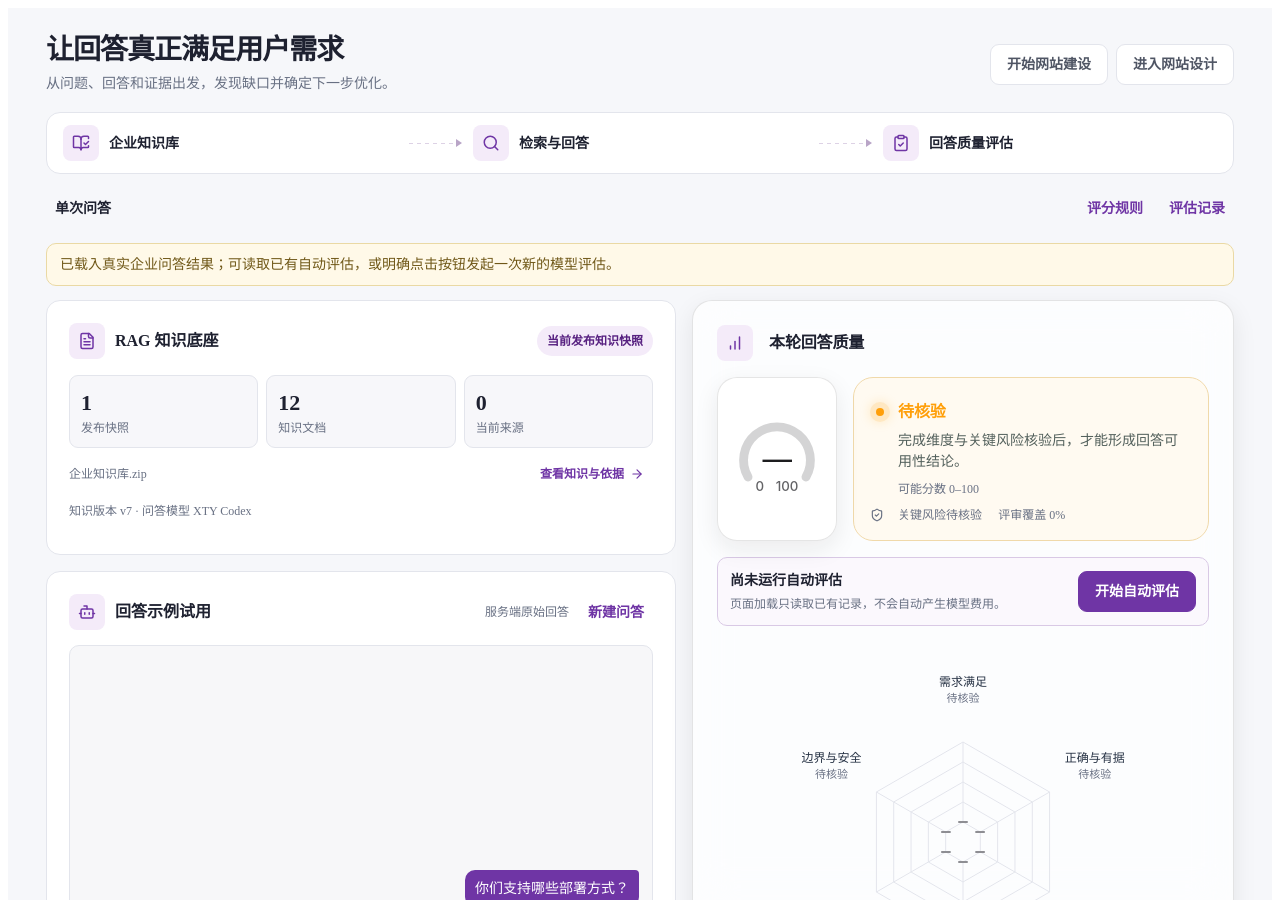
Test: enterprise RAG evidence-based review UI › shows the durable server failure instead of a generic submitted notice
Click the button with test id "rag-auto-evaluate": coordinates (1137, 592) [1078,572,1196,612]
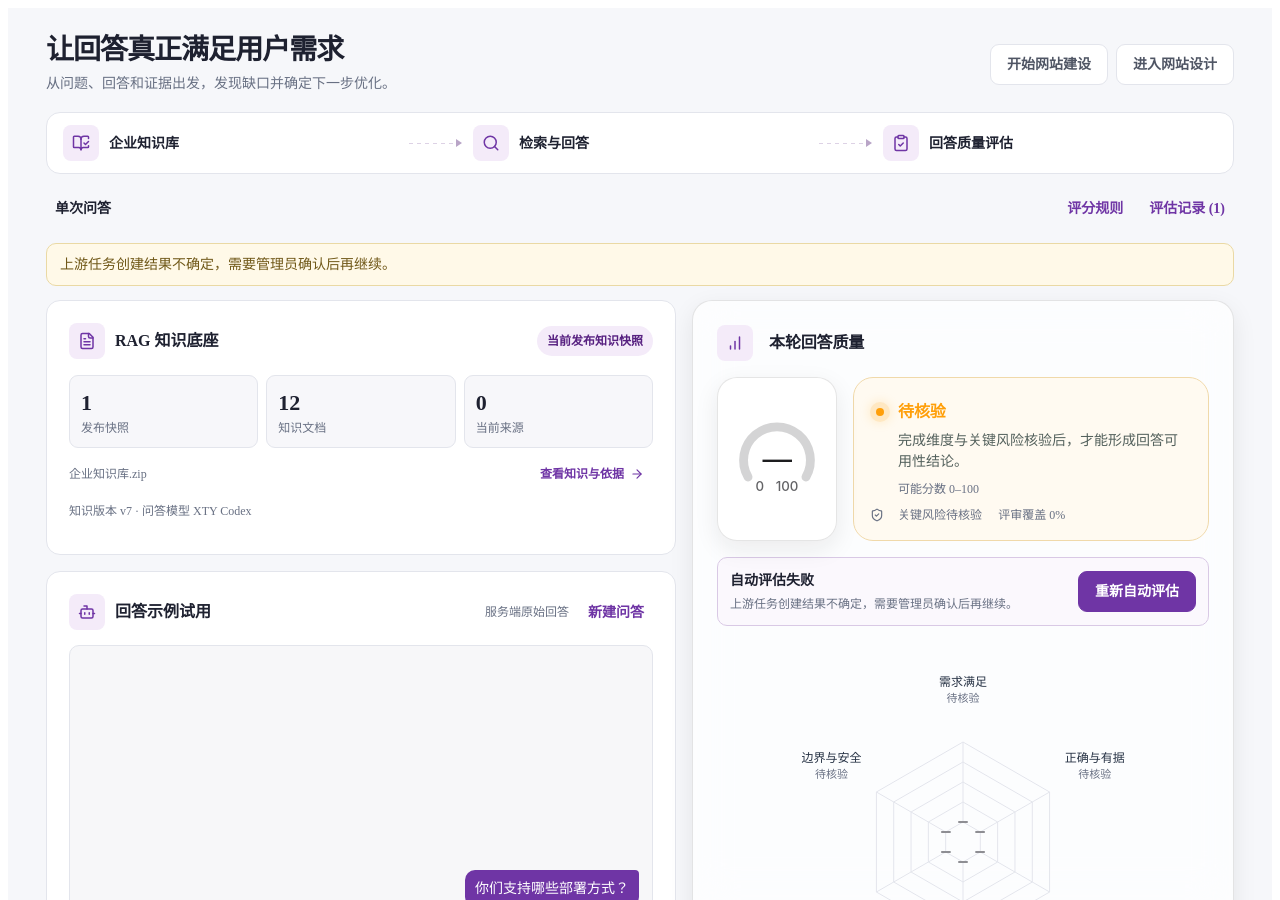
Result: the element with test id "rag-auto-evaluation-status" shows "上游任务创建结果不确定" at [730,598,1018,612]
Result: the message shows "需要管理员确认" at [60,258,396,272]
